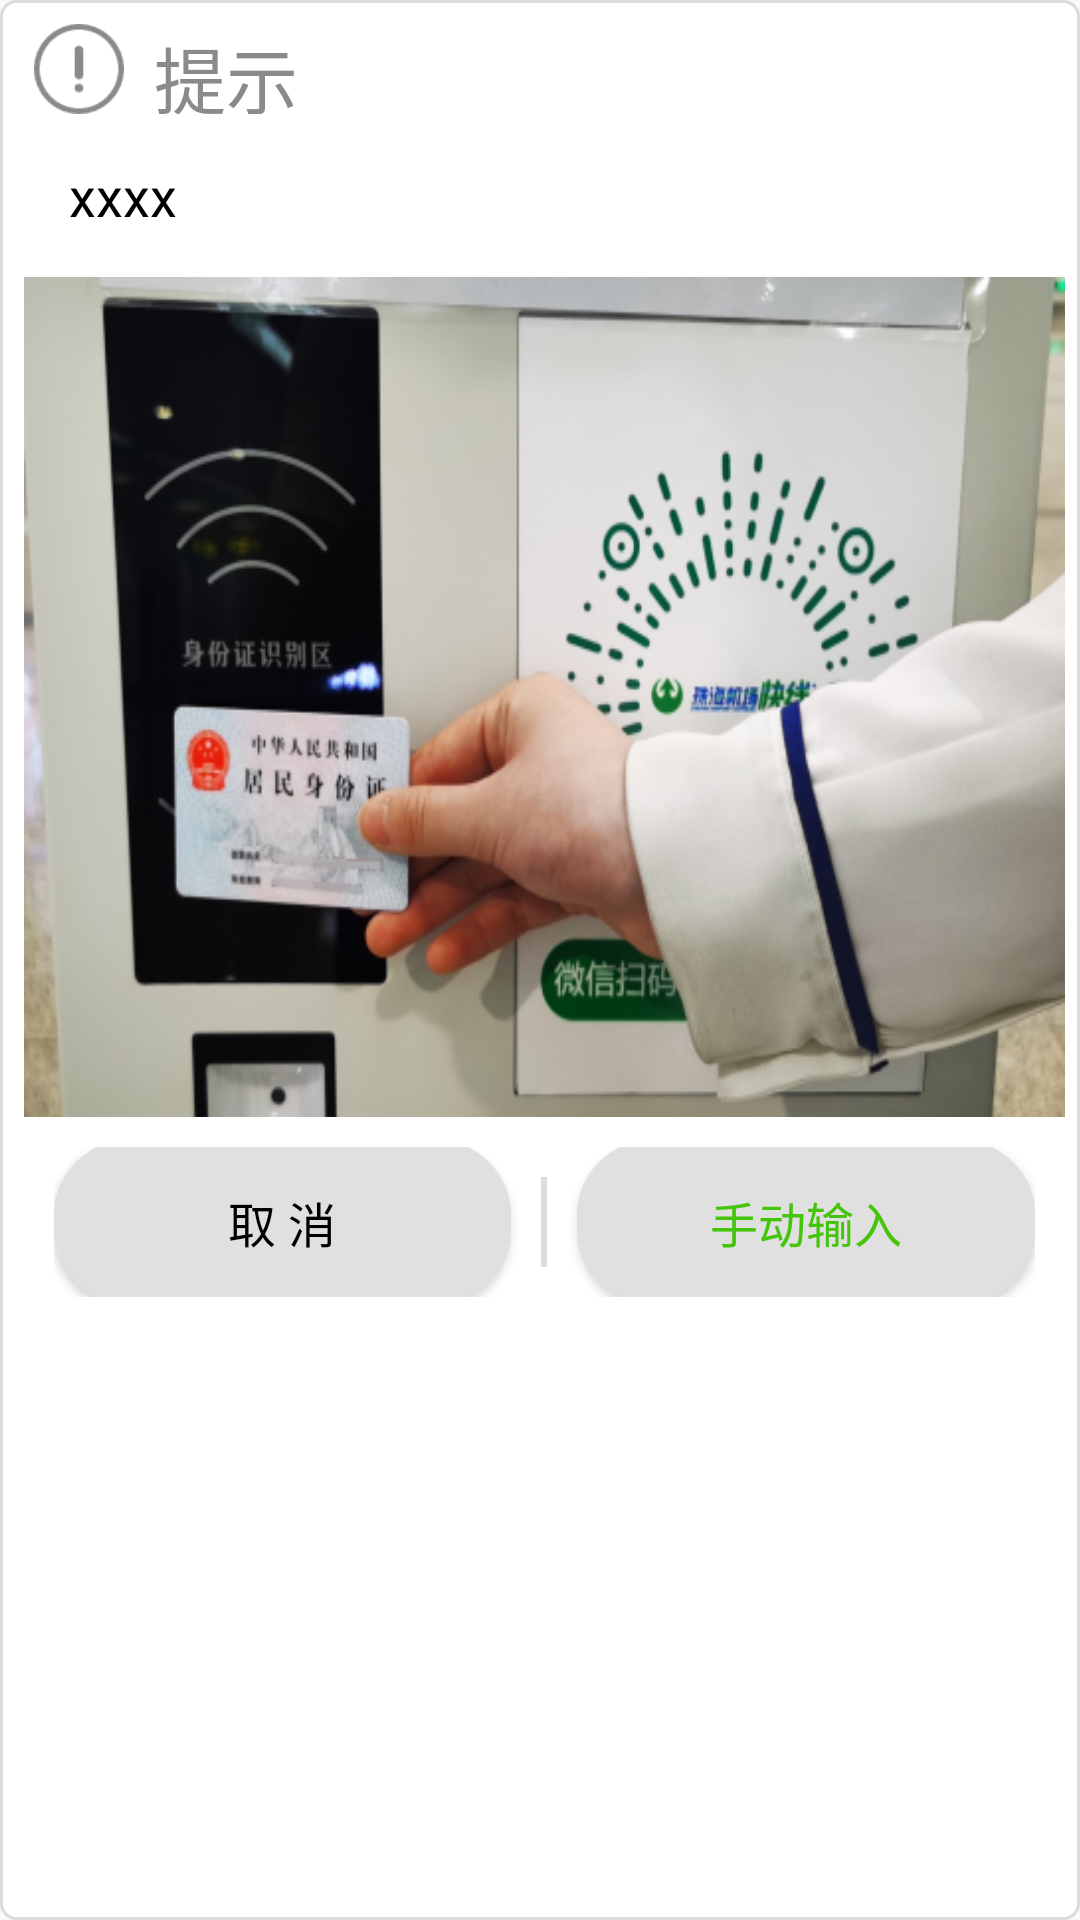

Icon click points for this 1080 x 1920 phone screenshot, format (x=x, y=y):
tips: (x=79, y=69)
